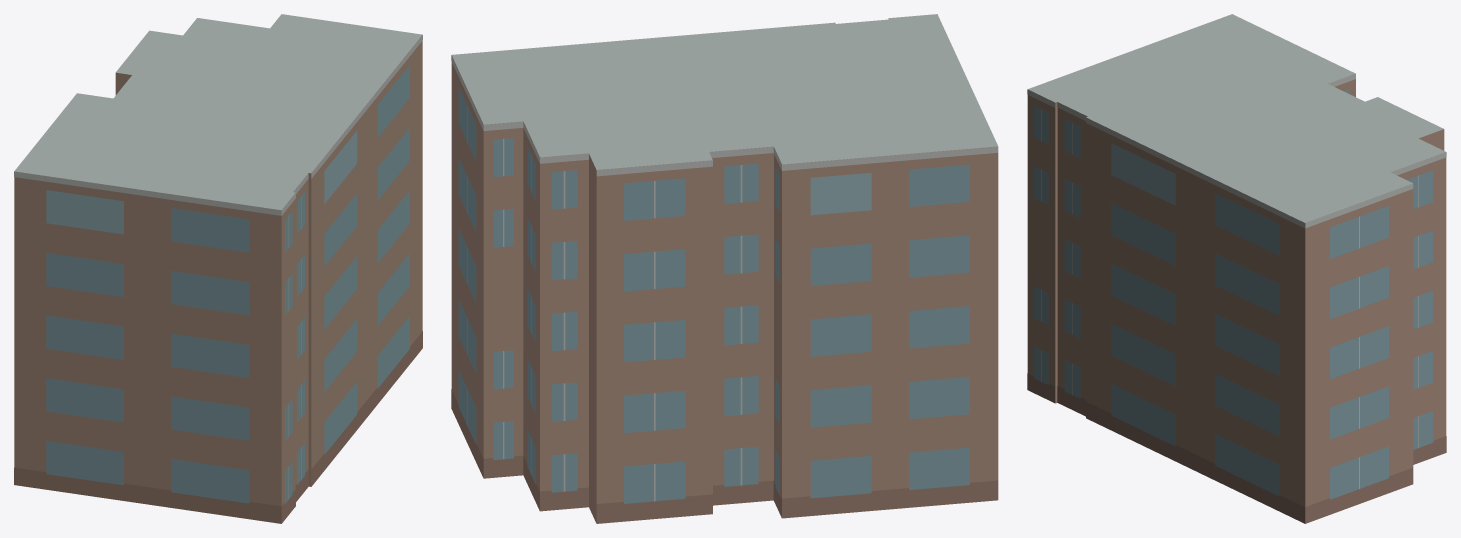
File: survey-upis-33027747.glb
3 renders of one model, left to right at view 1: azimuth 30°, elevation 25°; view 2: azimuth 150°, elevation 25°; view 3: azimuth 270°, elevation 25°, orthographic. The views are drawn at different scales.
Visible parts, largest first — view 1: survey-upis-33027747.tmp; view 2: survey-upis-33027747.tmp; view 3: survey-upis-33027747.tmp.
Boxes of the visible parts, x1,y1,x2,y2 form: survey-upis-33027747.tmp: (14, 14, 422, 523); survey-upis-33027747.tmp: (451, 14, 998, 523); survey-upis-33027747.tmp: (1027, 14, 1446, 523).
Size of the model in its own units: 20.13 by 13.5 by 17.04.
